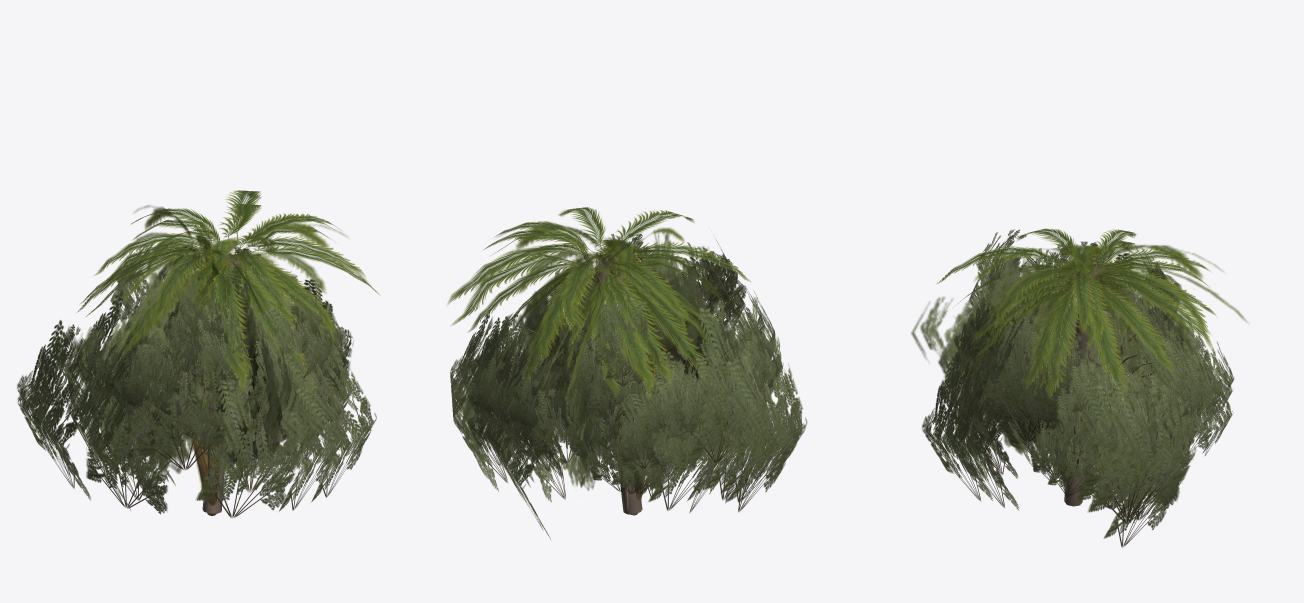
File: trees-arid.glb
3 views of the same model, side by side, from view 1: azimuth 30°, elevation 25°; view 2: azimuth 150°, elevation 25°; view 3: azimuth 270°, elevation 25° (orthographic). The views are drawn at different scales.
Parts seen in each view (by area): view 1: tamarisk_mid_tree, tamarisk_tree, palm_tree, tamarisk_far_tree, palm_far_tree, palm_mid_tree; view 2: tamarisk_tree, tamarisk_mid_tree, palm_tree, tamarisk_far_tree, palm_mid_tree, palm_far_tree; view 3: tamarisk_mid_tree, tamarisk_tree, palm_tree, tamarisk_far_tree, palm_mid_tree, palm_far_tree.
Part boxes in pixels (x1,y1,x2,y2): tamarisk_mid_tree: [16, 244, 376, 517]; tamarisk_tree: [54, 244, 332, 515]; palm_tree: [76, 190, 380, 513]; tamarisk_far_tree: [65, 254, 321, 503]; palm_far_tree: [118, 205, 368, 506]; palm_mid_tree: [86, 204, 335, 513]; tamarisk_tree: [458, 233, 783, 515]; tamarisk_mid_tree: [450, 246, 807, 539]; palm_tree: [447, 207, 750, 514]; tamarisk_far_tree: [518, 228, 779, 502]; palm_mid_tree: [451, 233, 719, 513]; palm_far_tree: [483, 222, 724, 509]; tamarisk_mid_tree: [922, 244, 1213, 547]; tamarisk_tree: [954, 229, 1234, 496]; palm_tree: [937, 228, 1217, 506]; tamarisk_far_tree: [911, 248, 1199, 489]; palm_mid_tree: [966, 240, 1212, 505]; palm_far_tree: [974, 245, 1247, 364].
Bounding box in the file's own units: 0.7765 × 0.8333 × 0.7765.
Materials: 1 (1 with a texture image).
